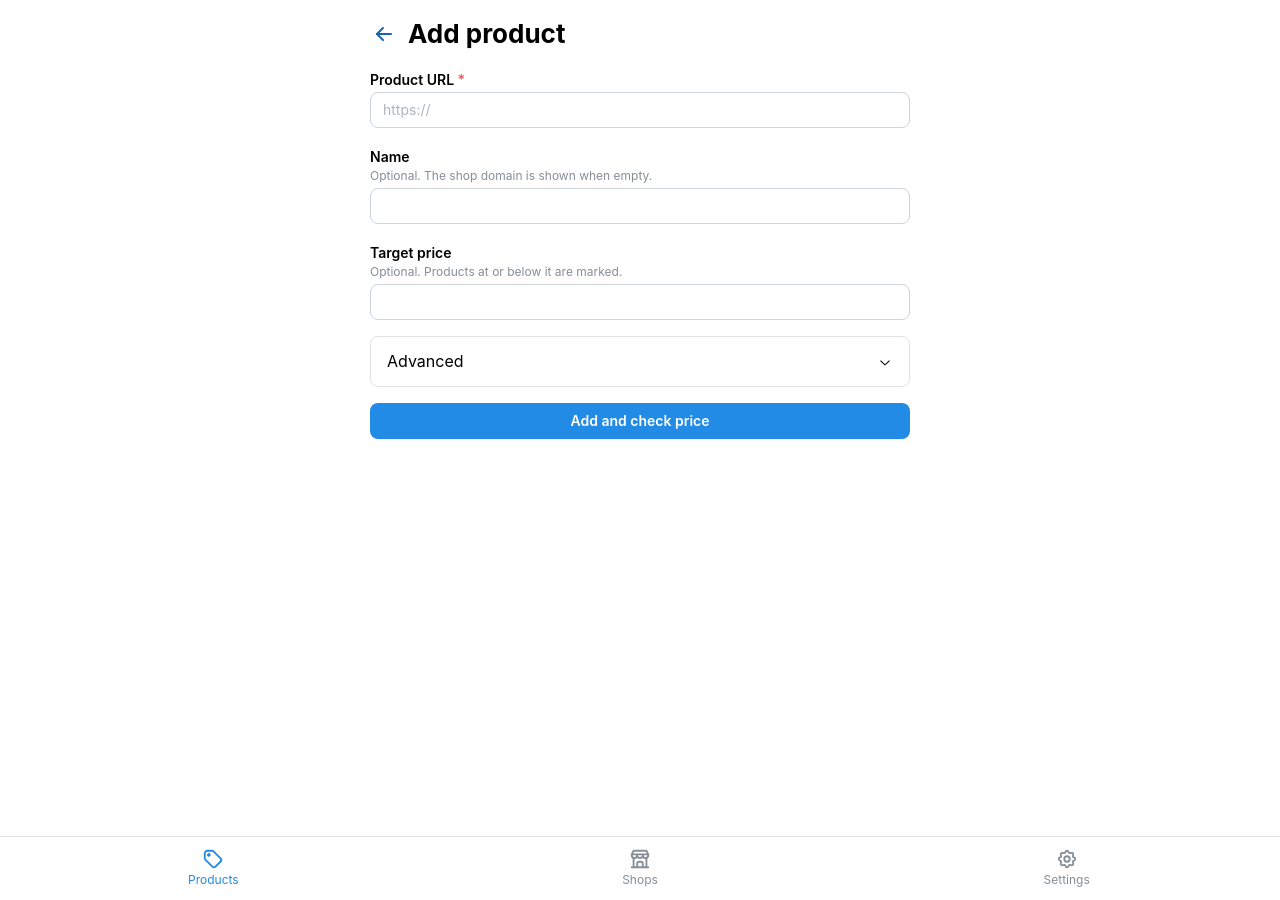
Test case: NewProductPage › shows only the invalid key notification when the key is rejected
The width and height of the screenshot is (1280, 900).
Type "https://shop.example/p/1" into the field labelled "Product URL *" at {"x": 640, "y": 110}, box [370,92,910,128]
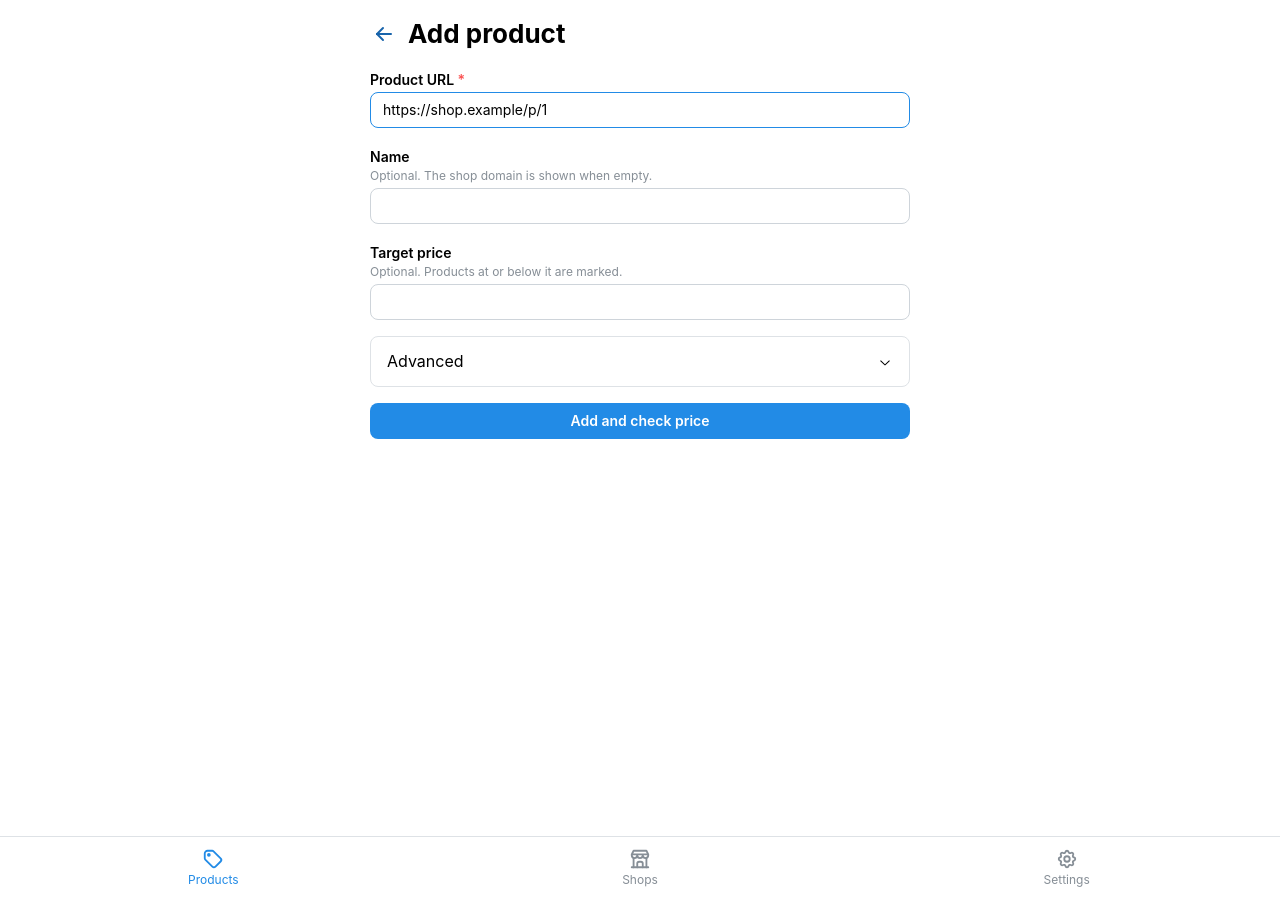
Click the button "Add and check price" at {"x": 640, "y": 421}, box [370,403,910,439]
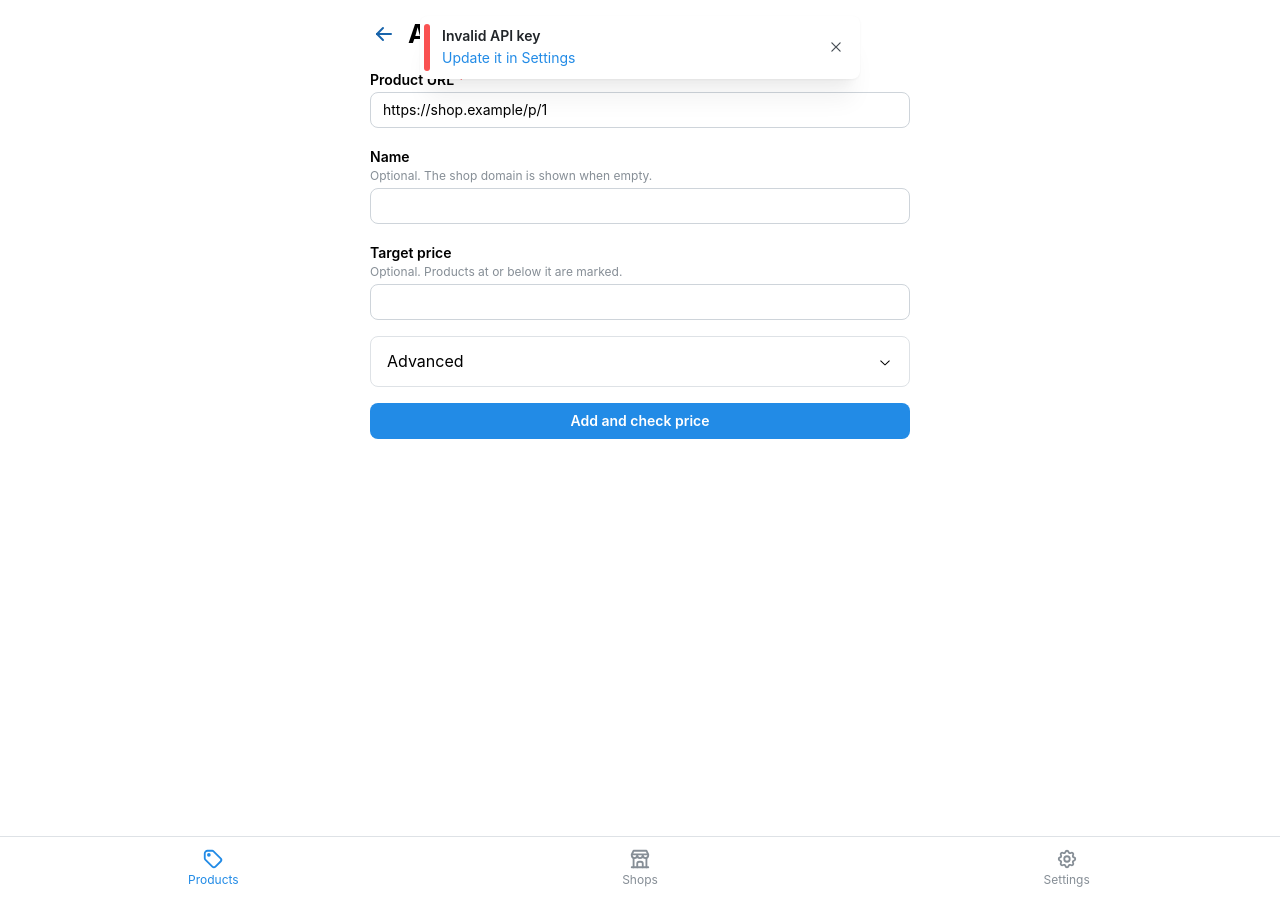
Expected: the link "Update it in Settings" is shown, [442,49,575,66]
